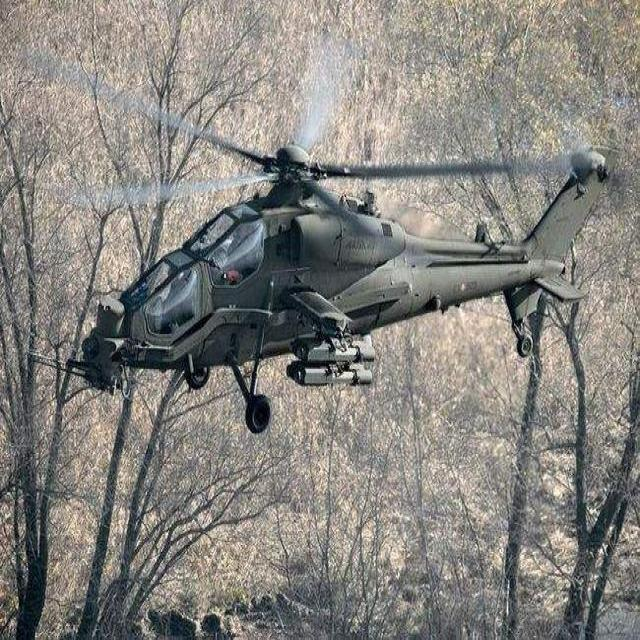MIL_HELO: (15, 24, 618, 457)
